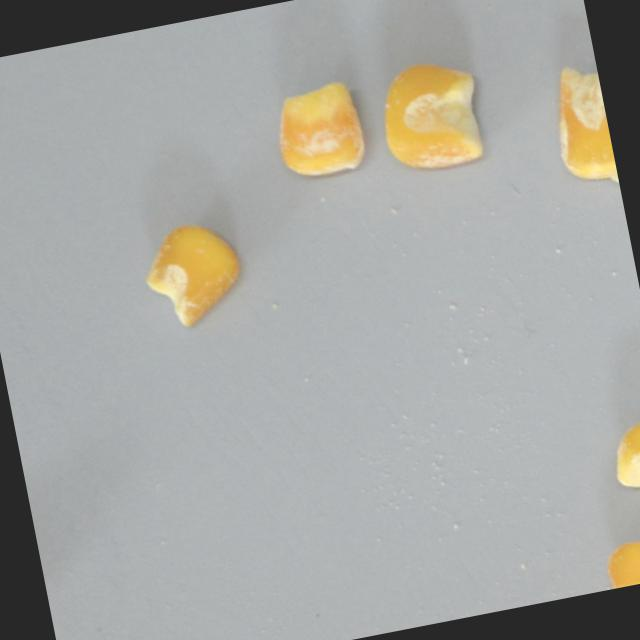pelicula: (374, 54, 489, 177), (135, 214, 250, 332), (268, 74, 369, 180), (543, 55, 619, 192), (607, 420, 640, 522), (602, 538, 640, 589)
